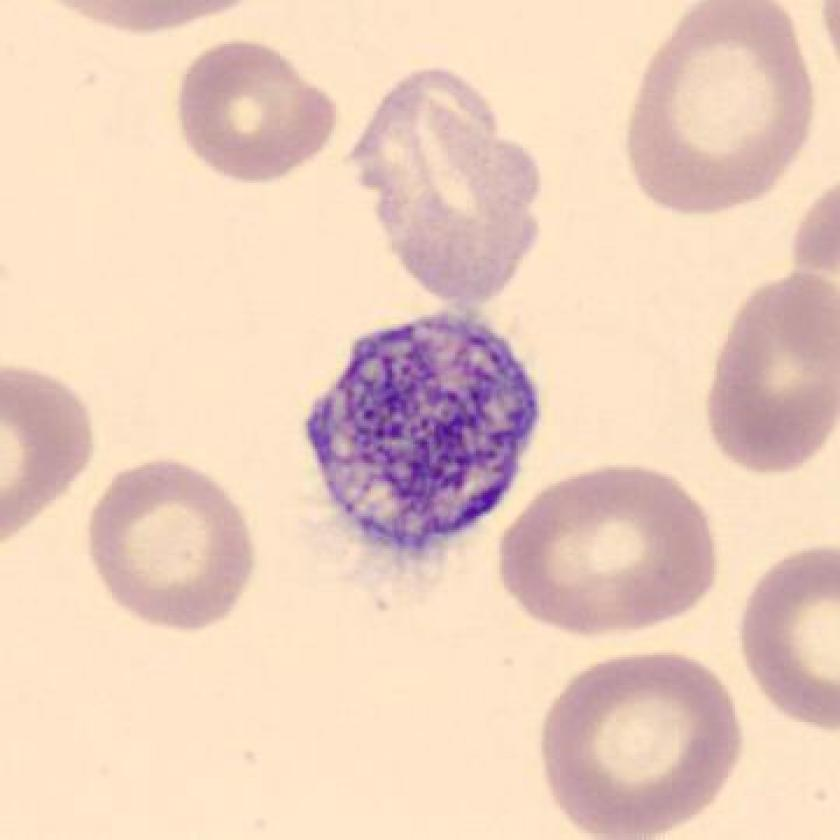platelets: (297, 309, 540, 559)
